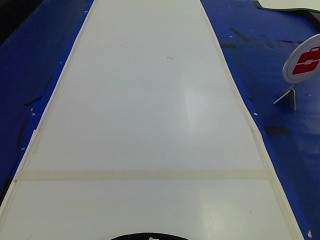company: (283, 31, 318, 86)
